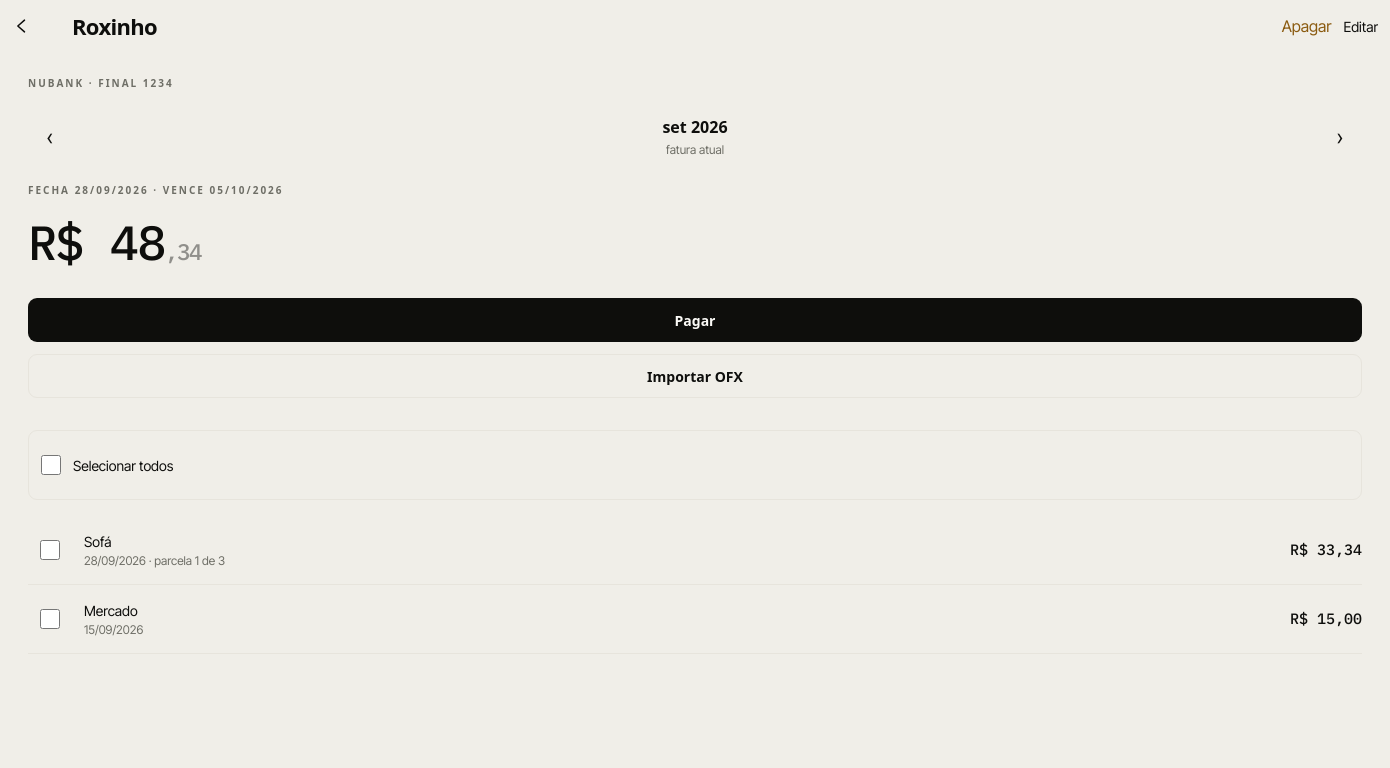
Test: CartaoDetalhe › seleciona todos os lançamentos ao clicar em 'Selecionar todos'
This screenshot has width=1390, height=768.
What coordinates should you click on to do the following:
click the checkbox labelled "Selecionar todos"
I would click on:
 (51, 465)
Its box is [41, 455, 61, 475].
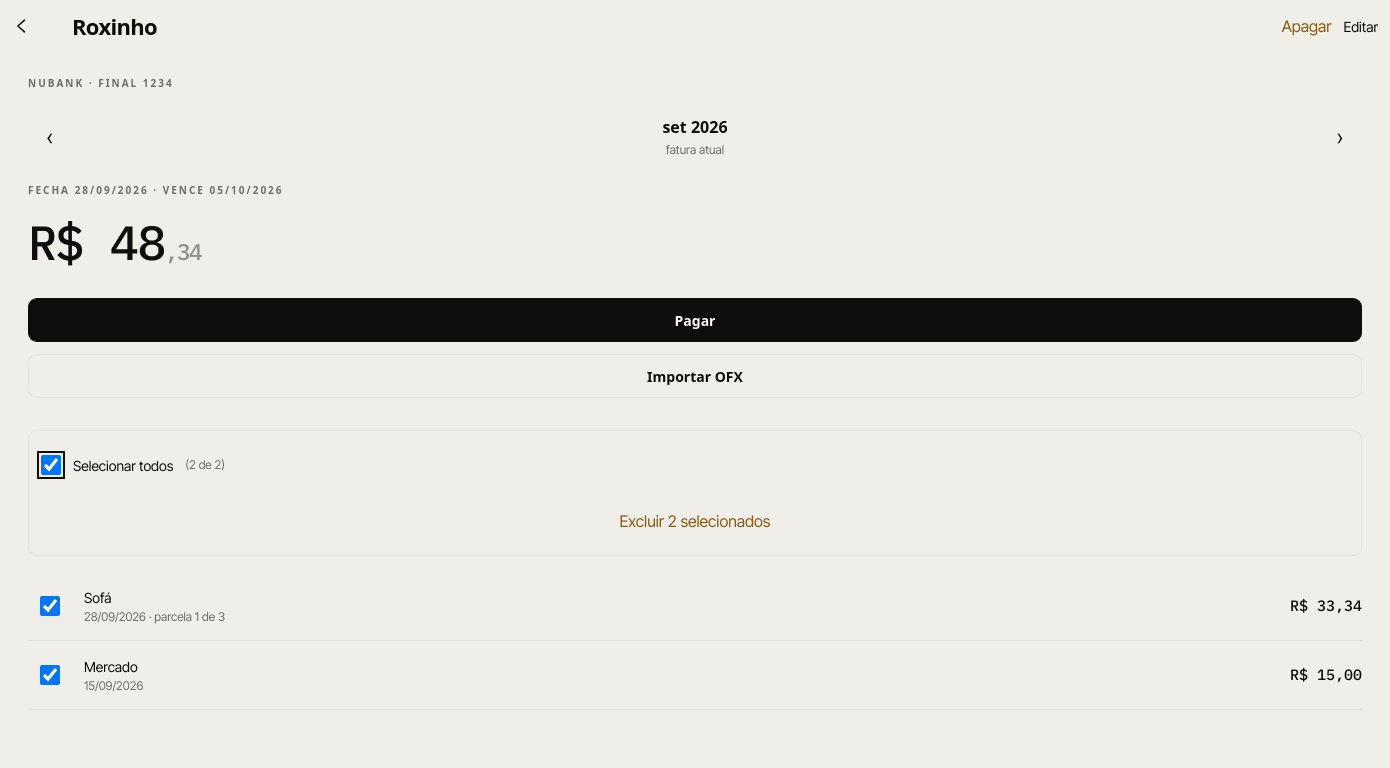
Now the checkbox labelled "Selecionar todos" is checked, box [41, 455, 61, 475]
Now the checkbox named "Selecionar Sofá" is checked, box [40, 596, 60, 616]
Now the checkbox named "Selecionar Mercado" is checked, box [40, 665, 60, 685]
